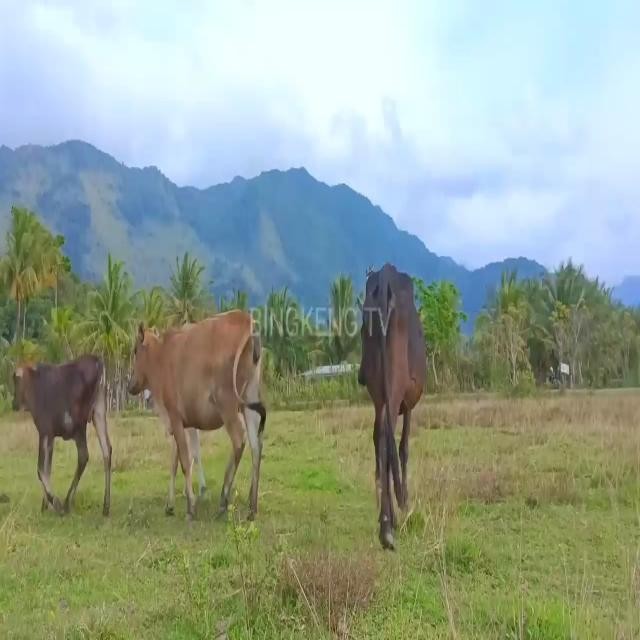cow: (124, 306, 264, 528), (352, 261, 428, 560), (9, 352, 115, 530)
